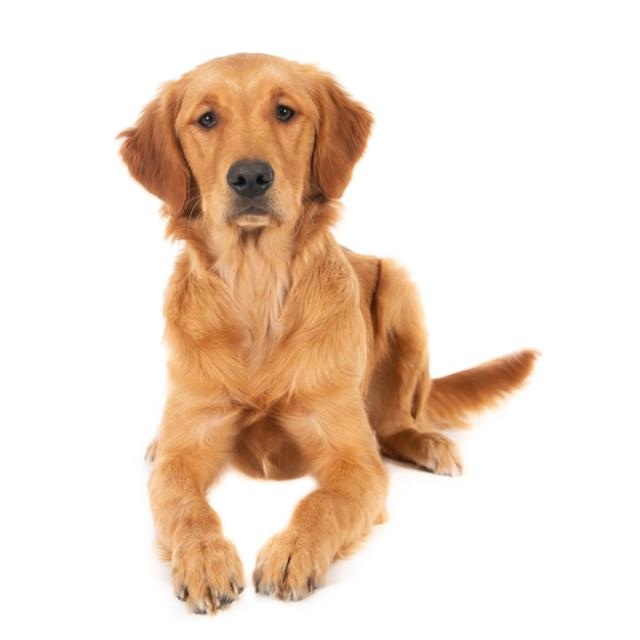Dog: (118, 52, 538, 615)
